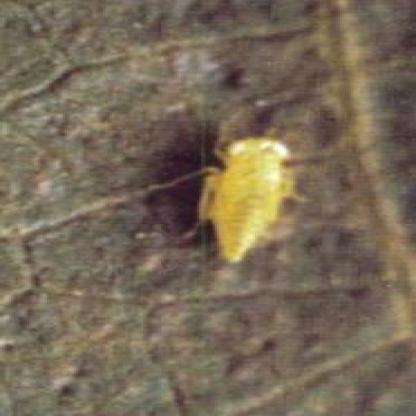Green-Leafhopper: (161, 128, 317, 273)
